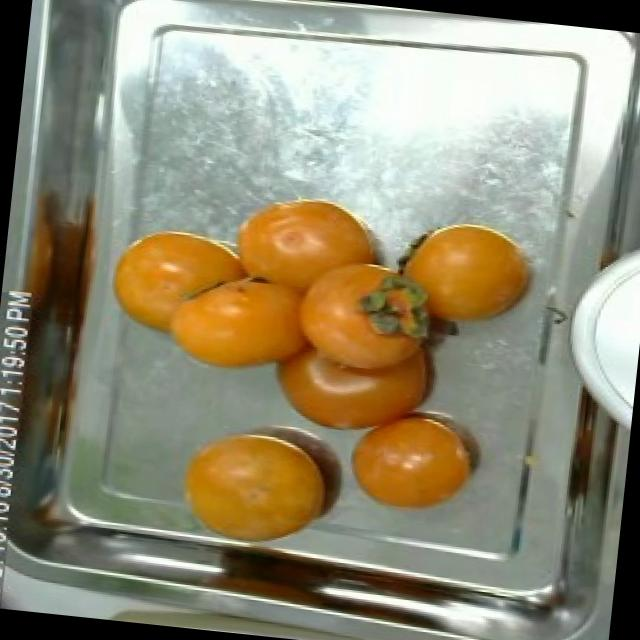Fruit: (380, 203, 555, 359), (160, 413, 346, 555), (211, 181, 407, 310), (330, 389, 496, 530), (93, 215, 254, 350)
